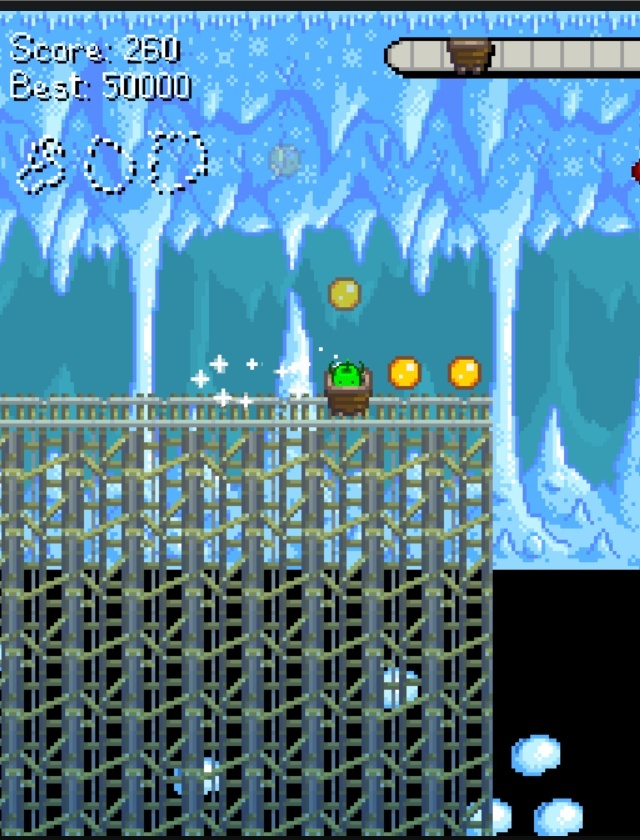coins: (387, 356, 421, 389), (448, 356, 481, 389)
minecart: (324, 360, 370, 413)
score: (119, 31, 188, 69)
tracks: (1, 389, 319, 431)
